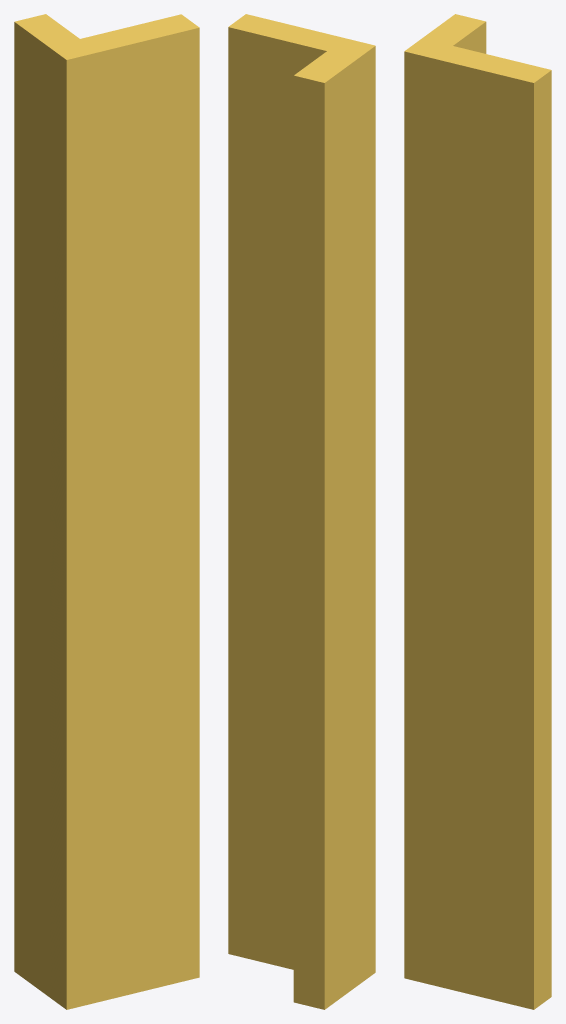
File: original-9.obj
3 renders of one model, left to right at view 1: azimuth 30°, elevation 25°; view 2: azimuth 150°, elevation 25°; view 3: azimuth 330°, elevation 25°, orthographic. The views are drawn at different scales.
Parts seen in each view (by area): view 1: Component_13_1/Component_13/mesh5/mesh5-geometry#mesh5-geometry; view 2: Component_13_1/Component_13/mesh5/mesh5-geometry#mesh5-geometry; view 3: Component_13_1/Component_13/mesh5/mesh5-geometry#mesh5-geometry.
Part boxes in pixels (x1,y1,x2,y2): Component_13_1/Component_13/mesh5/mesh5-geometry#mesh5-geometry: (14, 14, 199, 1009); Component_13_1/Component_13/mesh5/mesh5-geometry#mesh5-geometry: (228, 14, 375, 1009); Component_13_1/Component_13/mesh5/mesh5-geometry#mesh5-geometry: (404, 14, 551, 1009).
Size of the model in its own units: 0.1099 by 0.7501 by 0.075.
